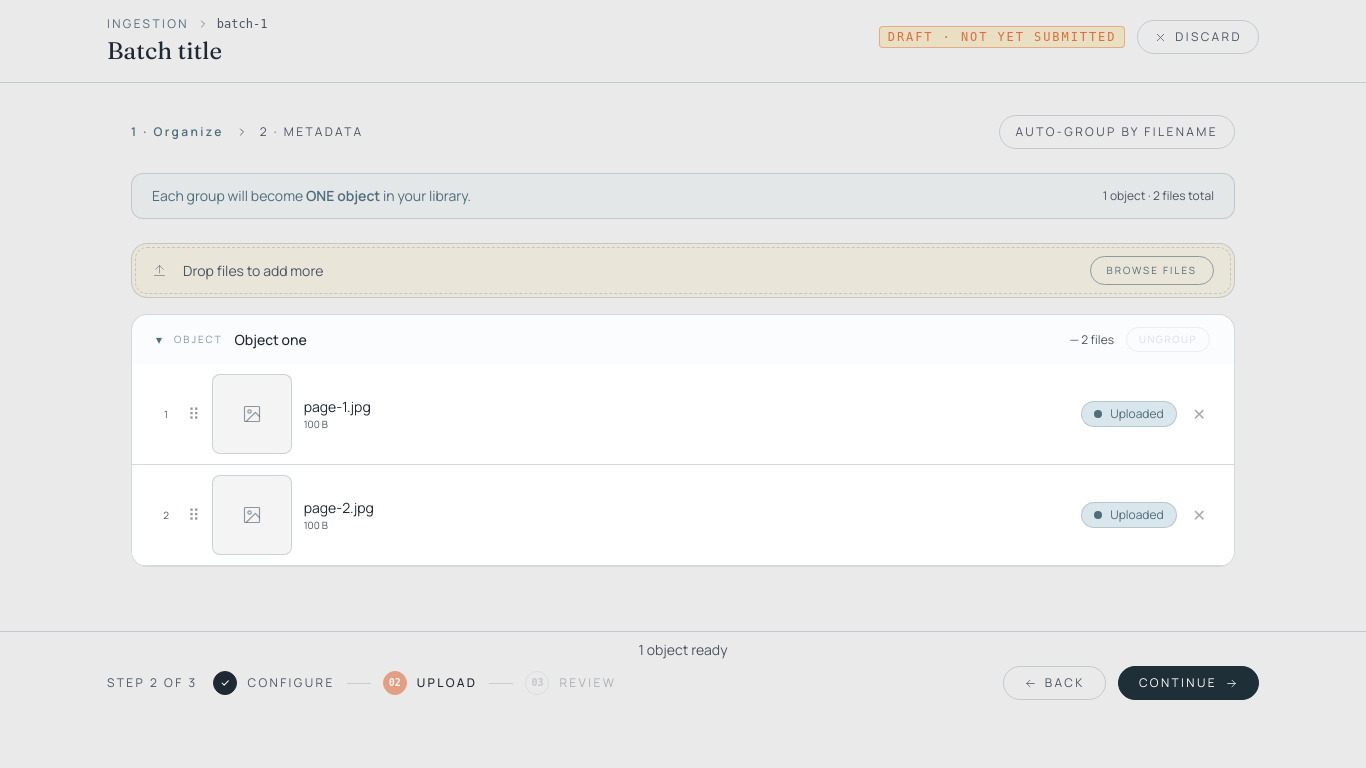
Scenario: /ingestion/[batchId]/setup +page.svelte › shows backend preview failures without a Check again action
This screenshot has width=1366, height=768.
Click the button "Continue" at point(1188, 683), box [1118, 666, 1259, 700]
(page scrolled)
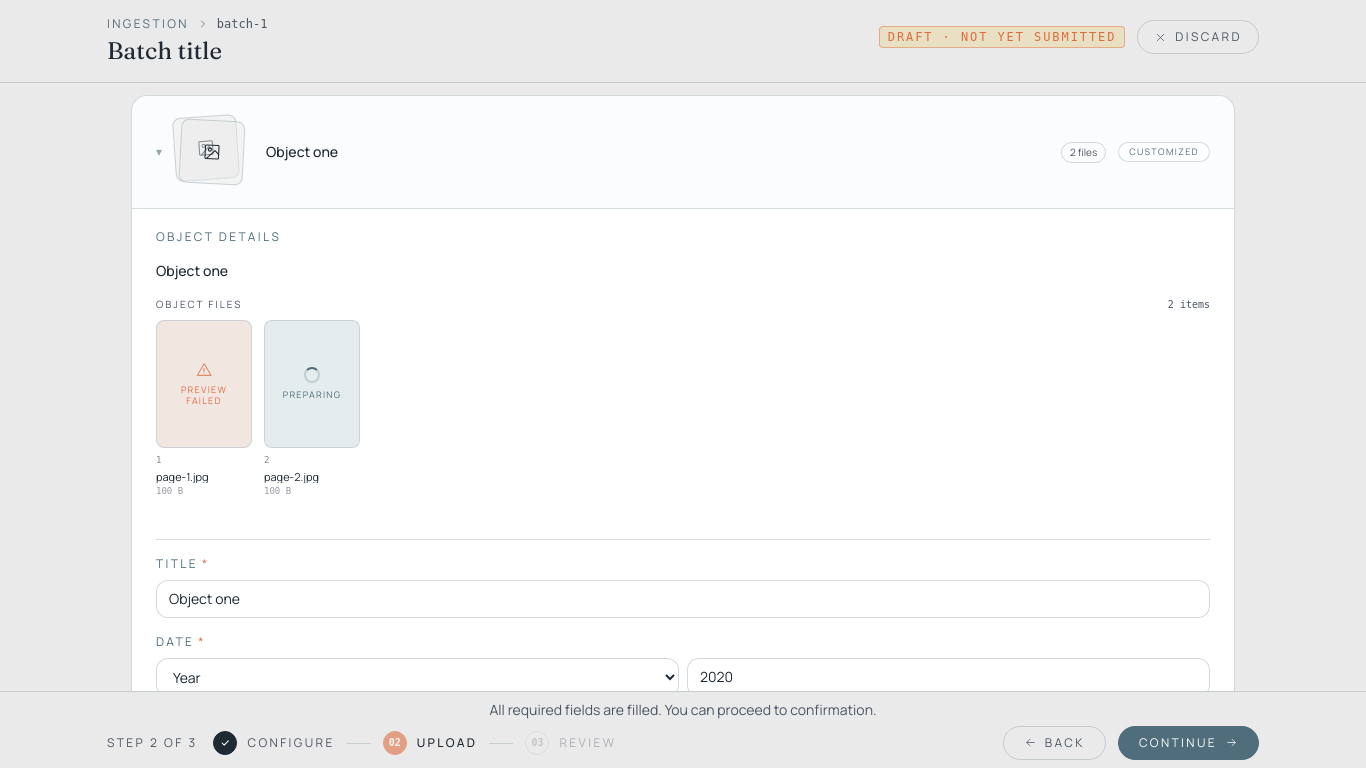
Expected: the text "Preview failed" is shown, [181, 383, 227, 407]
Click the button "Preview failed" at point(204, 384), box [157, 321, 251, 447]
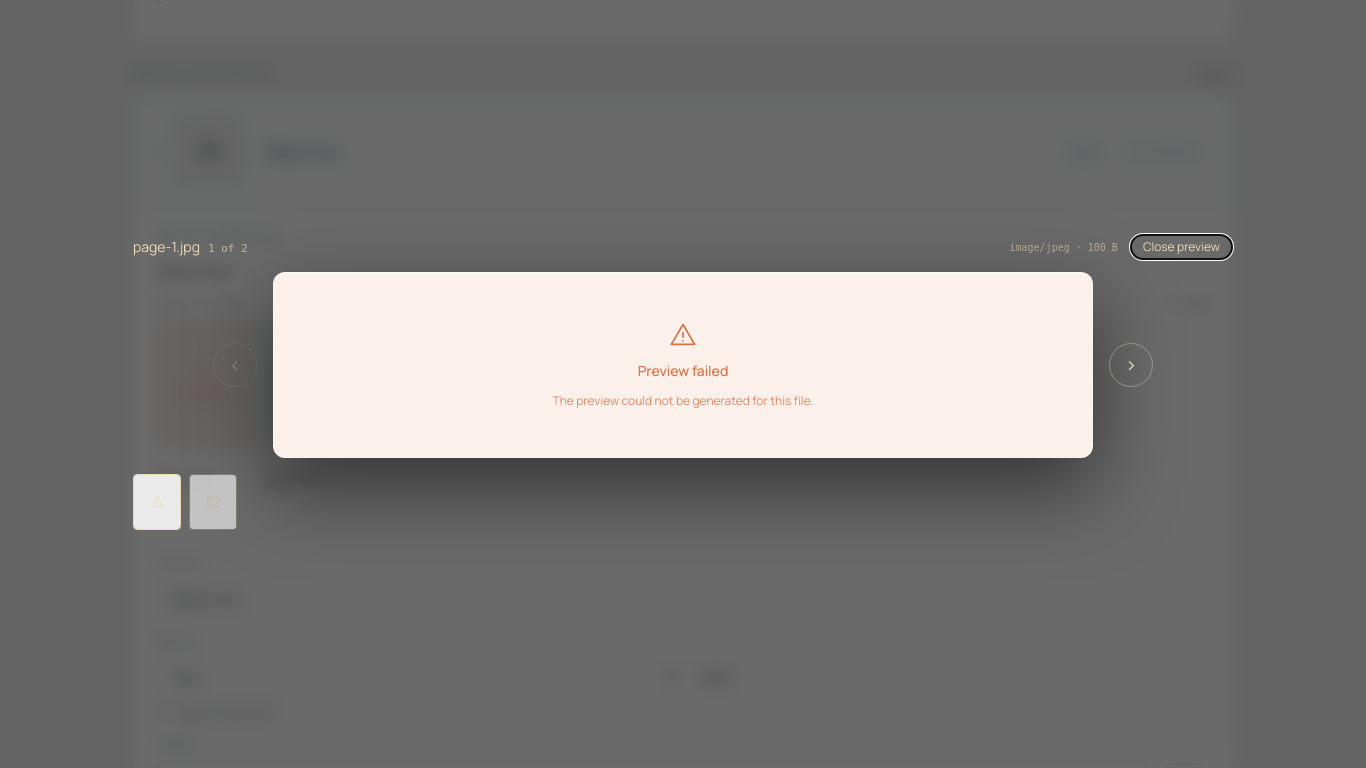
Expected: the dialog is shown, [133, 234, 1233, 530]
